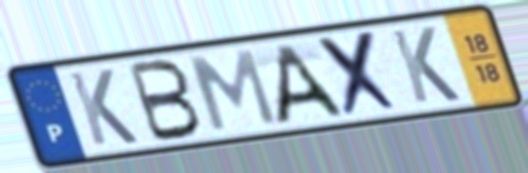A: (272, 40, 348, 128)
B: (125, 56, 205, 145)
K: (64, 66, 142, 149), (386, 24, 464, 106)
M: (185, 46, 282, 135)
X: (313, 27, 406, 121)
